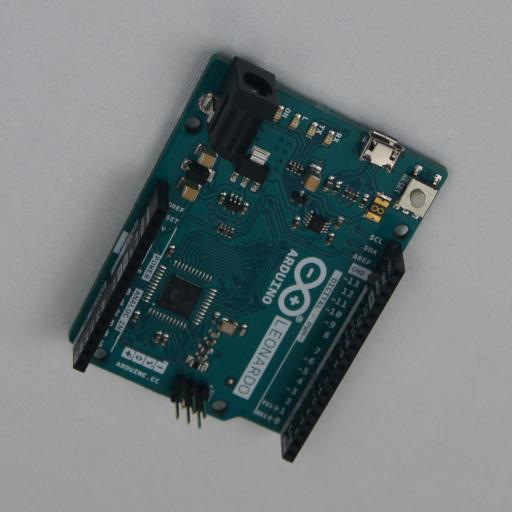Arduino Leonardo: (68, 50, 448, 463)
